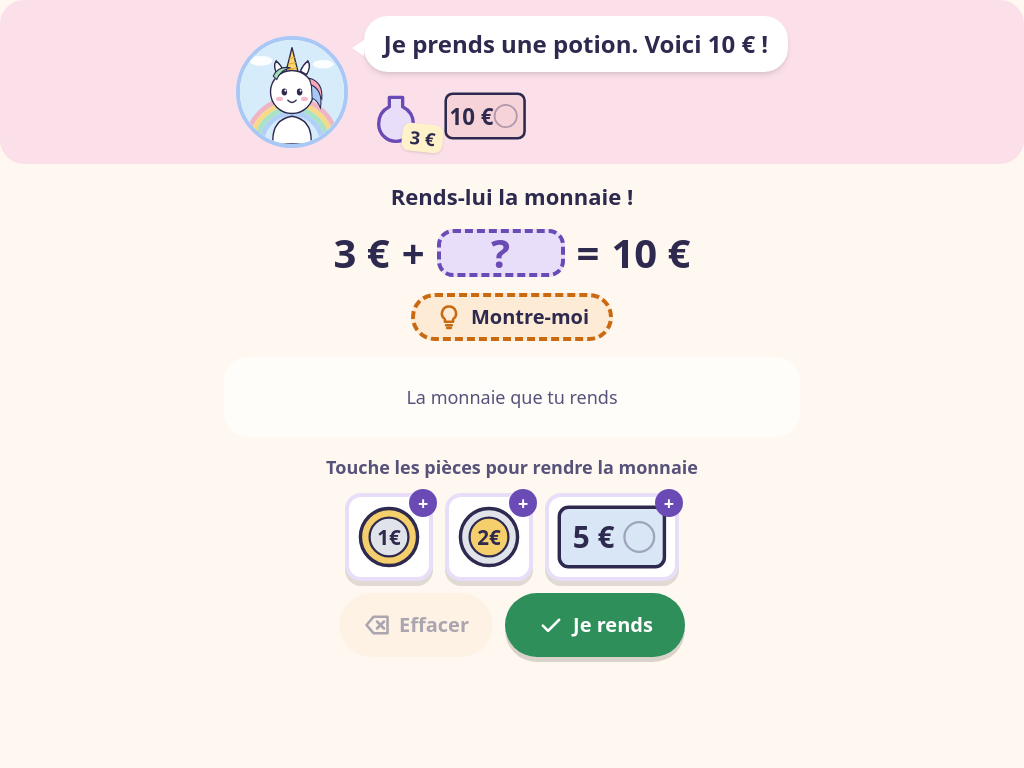
it: aides dans les jeux › boutique : la bande de cases s’affiche, se demande ou reste cachée
Click the button "Montre-moi" at (512, 317), box [411,293,613,341]
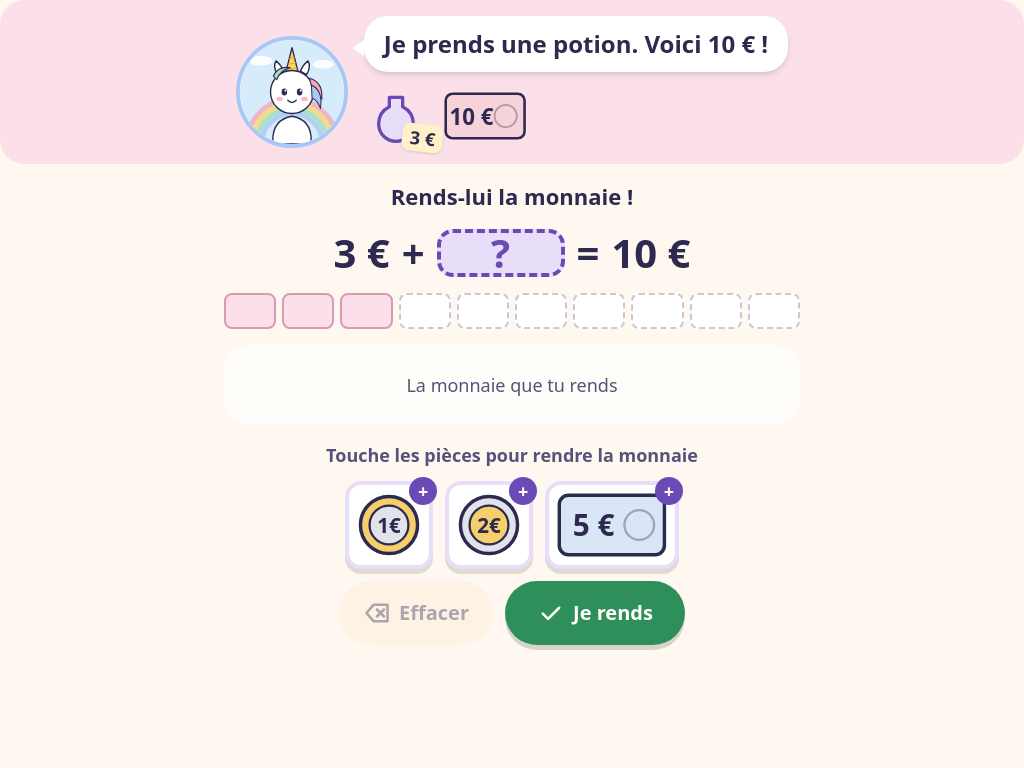
Expected: the button "Montre-moi" is gone
